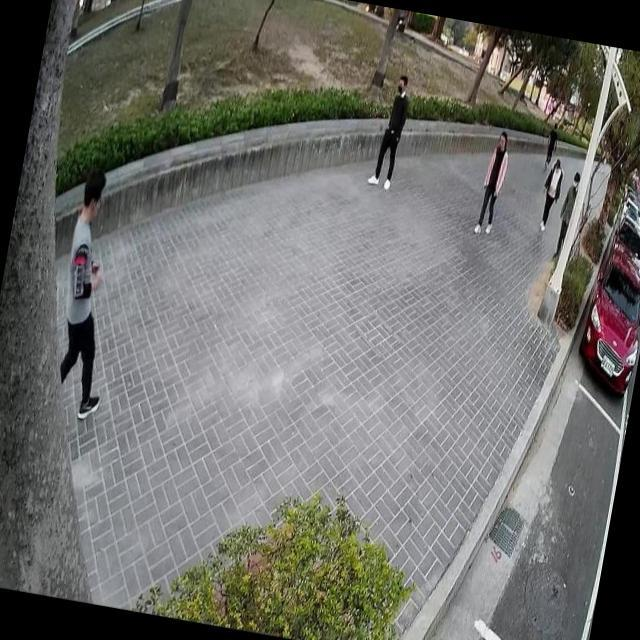person: (37, 157, 144, 426), (363, 68, 415, 193), (471, 125, 514, 236), (550, 165, 582, 264), (534, 154, 568, 234), (540, 116, 562, 172)
